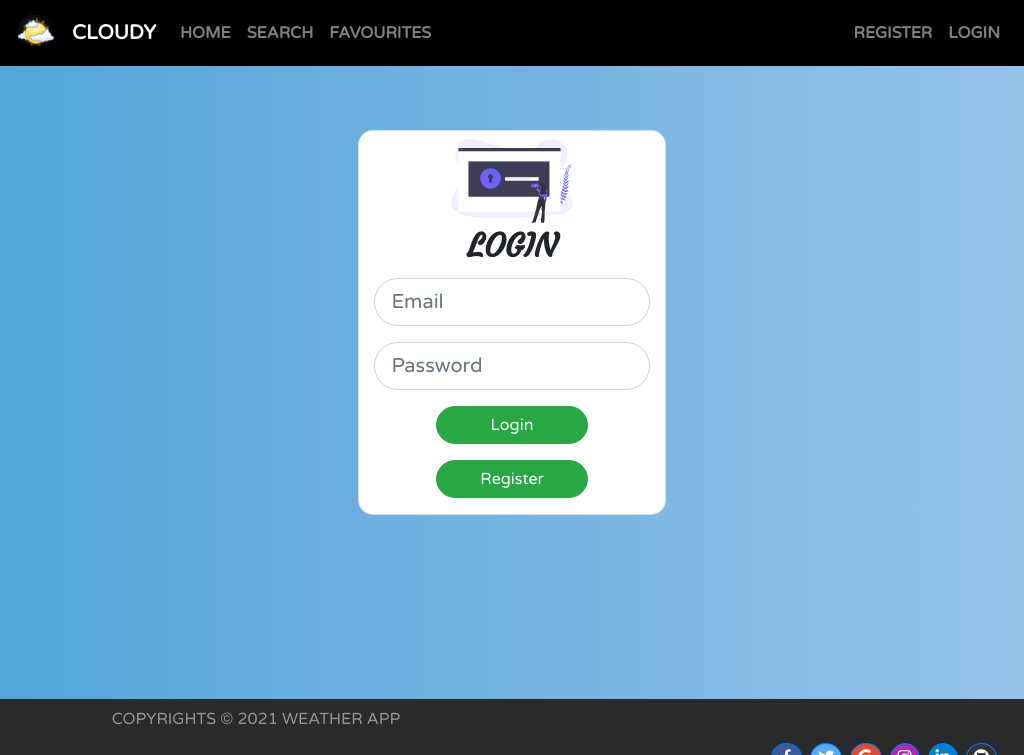
Test case: Check for login credentials › Check Invalid Email Credentials
The image size is (1024, 755).
In the field with test id "loginemail": (512, 302) x1=374 y1=278 x2=649 y2=326, type "!bc@gmail.com."
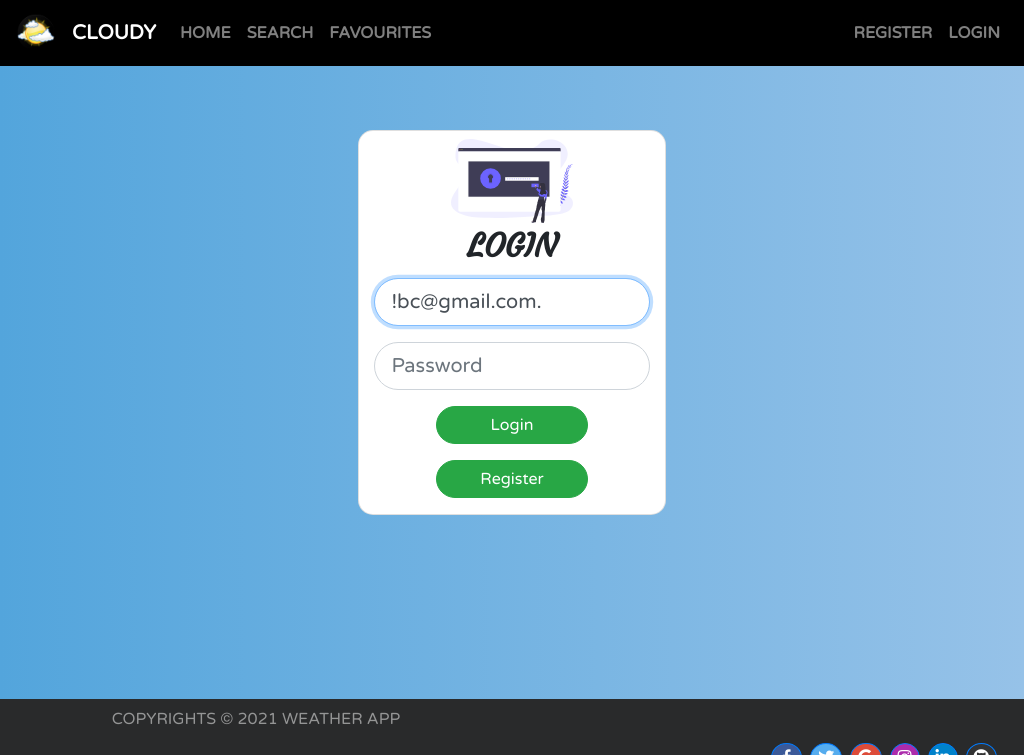
Click the button with test id "login-login-btn": (513, 425) x1=436 y1=406 x2=589 y2=444
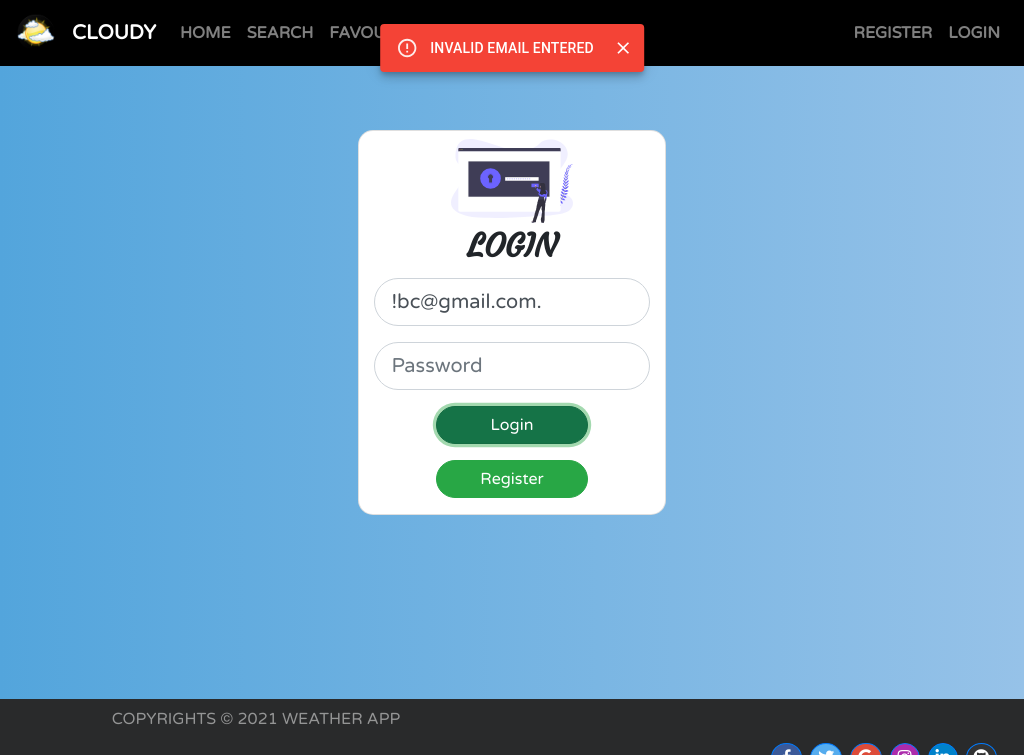
Expected: the text "Invalid Email Entered" is shown, x1=430 y1=40 x2=594 y2=56
